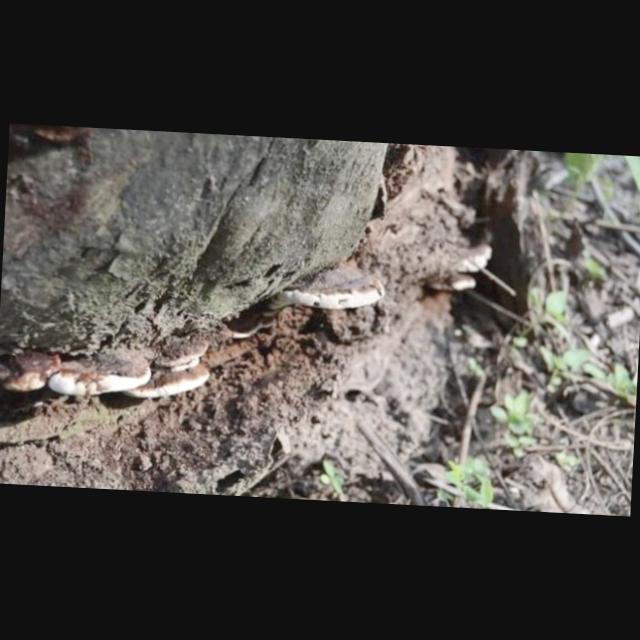ganoderma: (1, 329, 214, 406), (283, 262, 388, 316), (427, 243, 495, 298)
